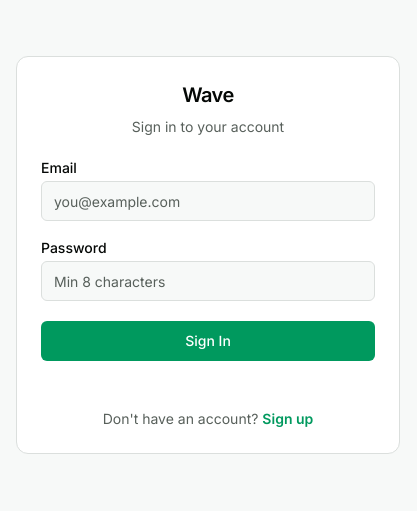
Test: AuthPage › toggles to sign-up form
Click the button "Sign up" at {"x": 288, "y": 419}, box [262,409,313,429]
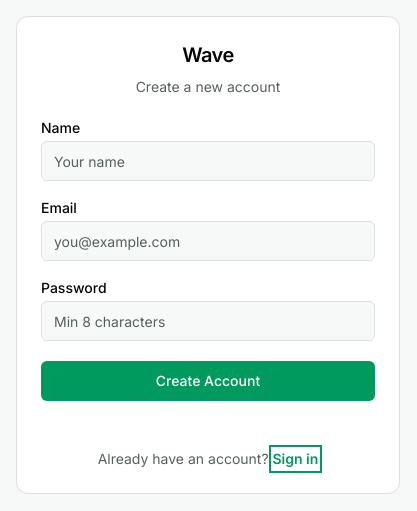
Now the text "Create a new account" is shown, box [136,78,280,95]
Now the field labelled "Name" is shown, box [41,141,375,181]
Now the button "Create Account" is shown, box [41,361,375,401]
